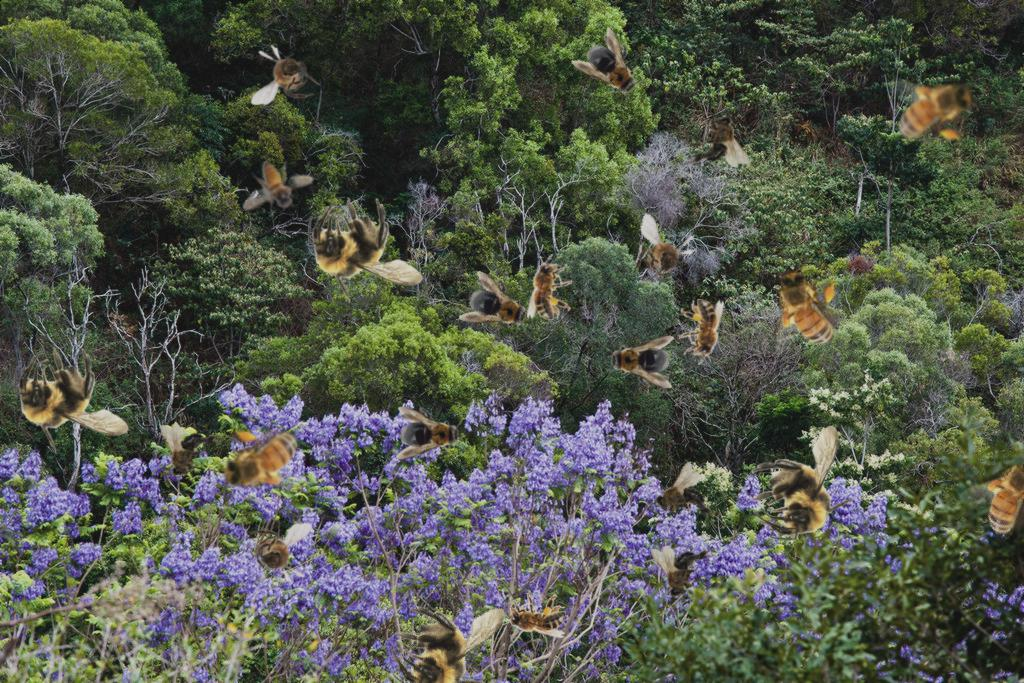Bee: (374, 567, 525, 683), (308, 197, 423, 304), (750, 425, 857, 540), (14, 347, 129, 454), (954, 443, 1024, 550), (570, 25, 656, 111), (624, 212, 703, 298), (217, 427, 310, 495), (771, 264, 839, 357), (886, 76, 979, 144), (458, 269, 540, 343), (644, 459, 719, 539), (152, 421, 223, 485), (242, 523, 312, 584), (251, 44, 321, 105), (243, 161, 314, 211), (396, 407, 464, 459), (606, 336, 674, 388), (688, 114, 750, 167), (651, 546, 713, 599), (679, 299, 724, 365), (527, 254, 572, 320), (500, 593, 566, 638)
